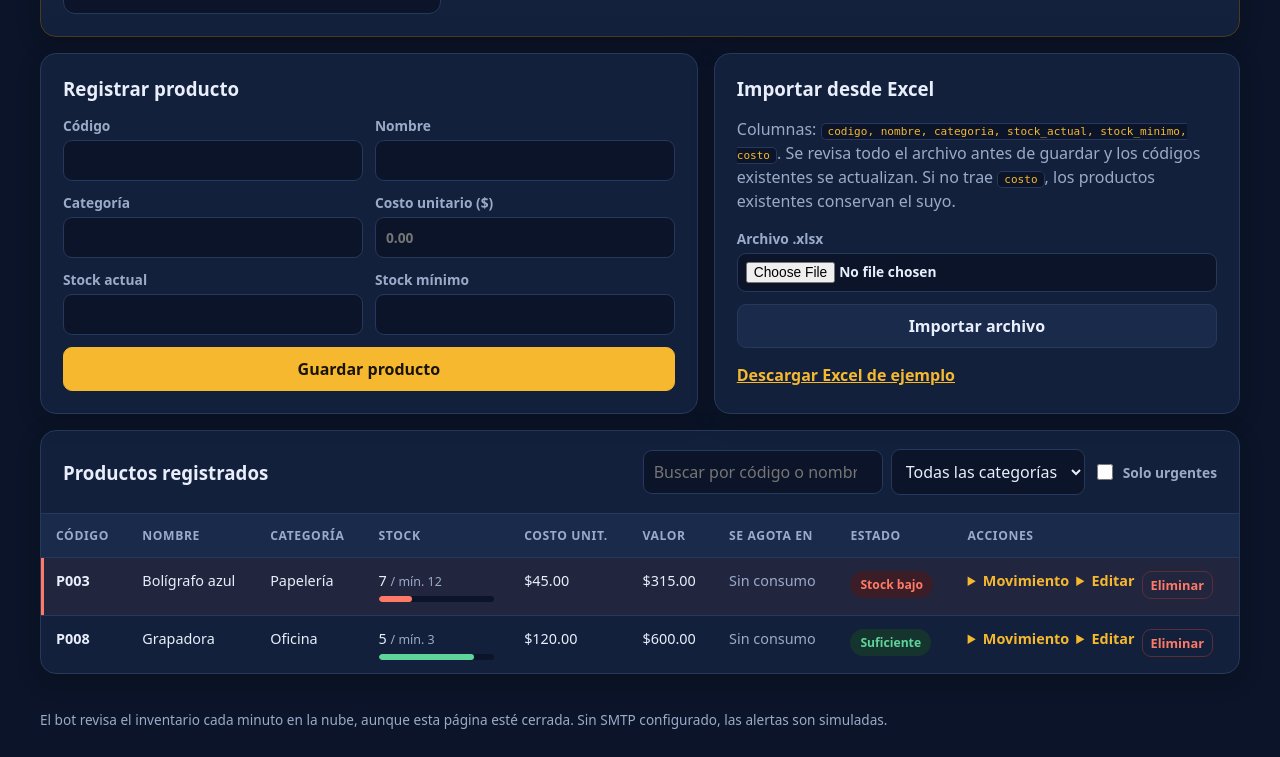
it: Inventario › 'Solo urgentes' y el buscador filtran la tabla
(page scrolled)
expect the text "P003" is shown: met, box [56,571,90,590]
Click the checkbox labelled "Solo urgentes" at (1105, 472), box [1097,464,1113,480]
(page scrolled)
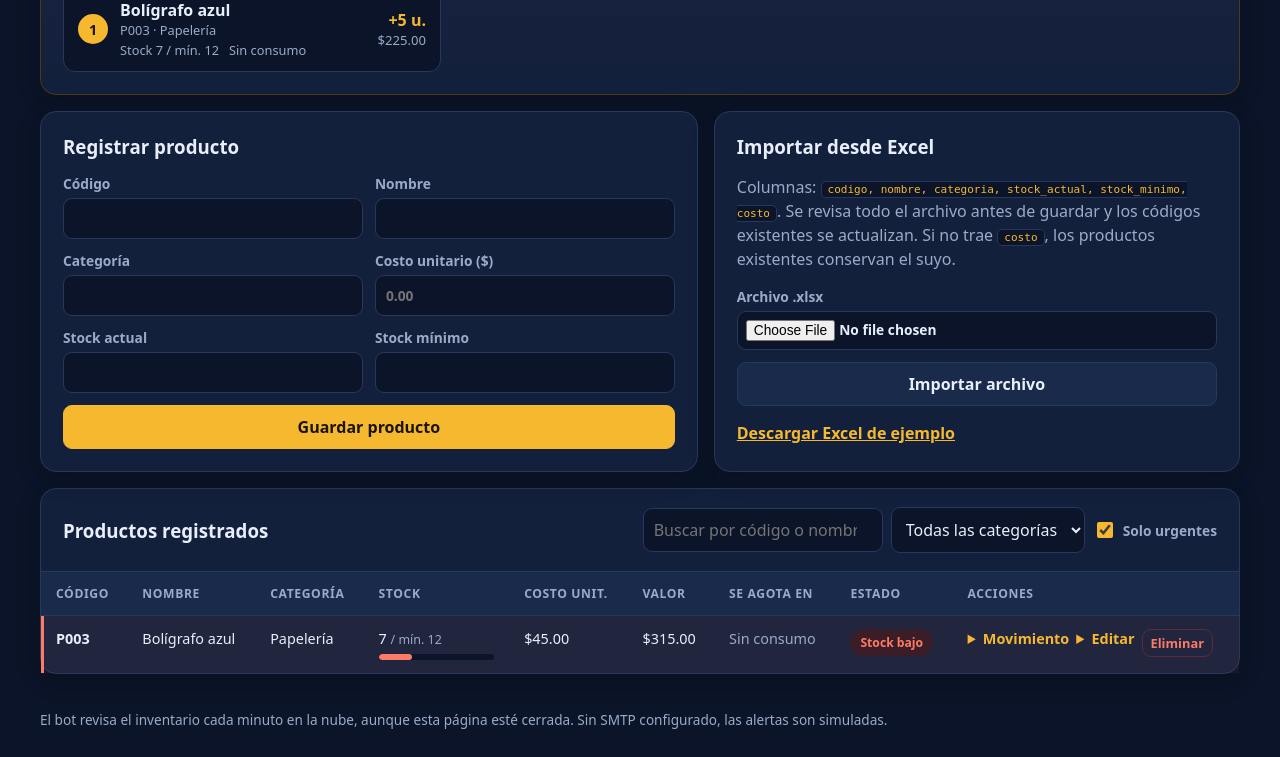
Click the checkbox labelled "Solo urgentes" at (1105, 530), box [1097,522,1113,538]
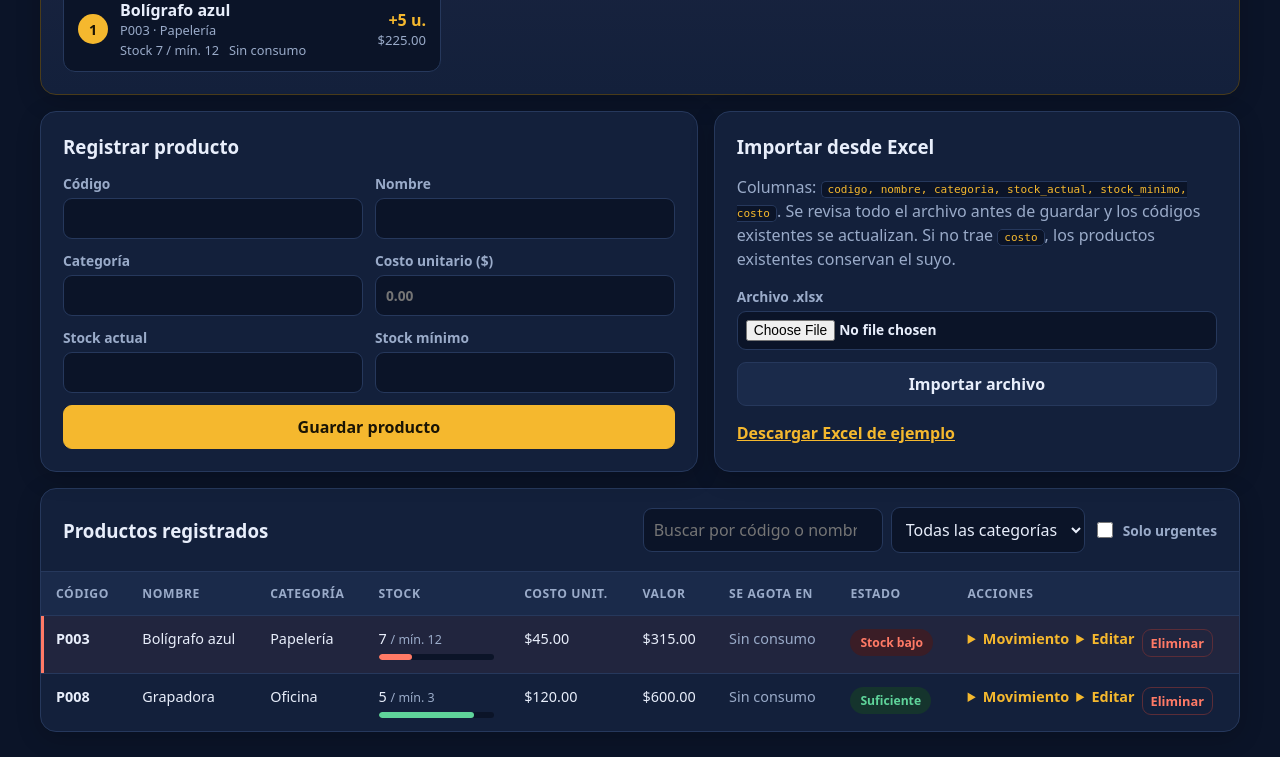
Select "Oficina" in the dropdown named "Filtrar por categoría" at (988, 530), box [891,507,1085,553]
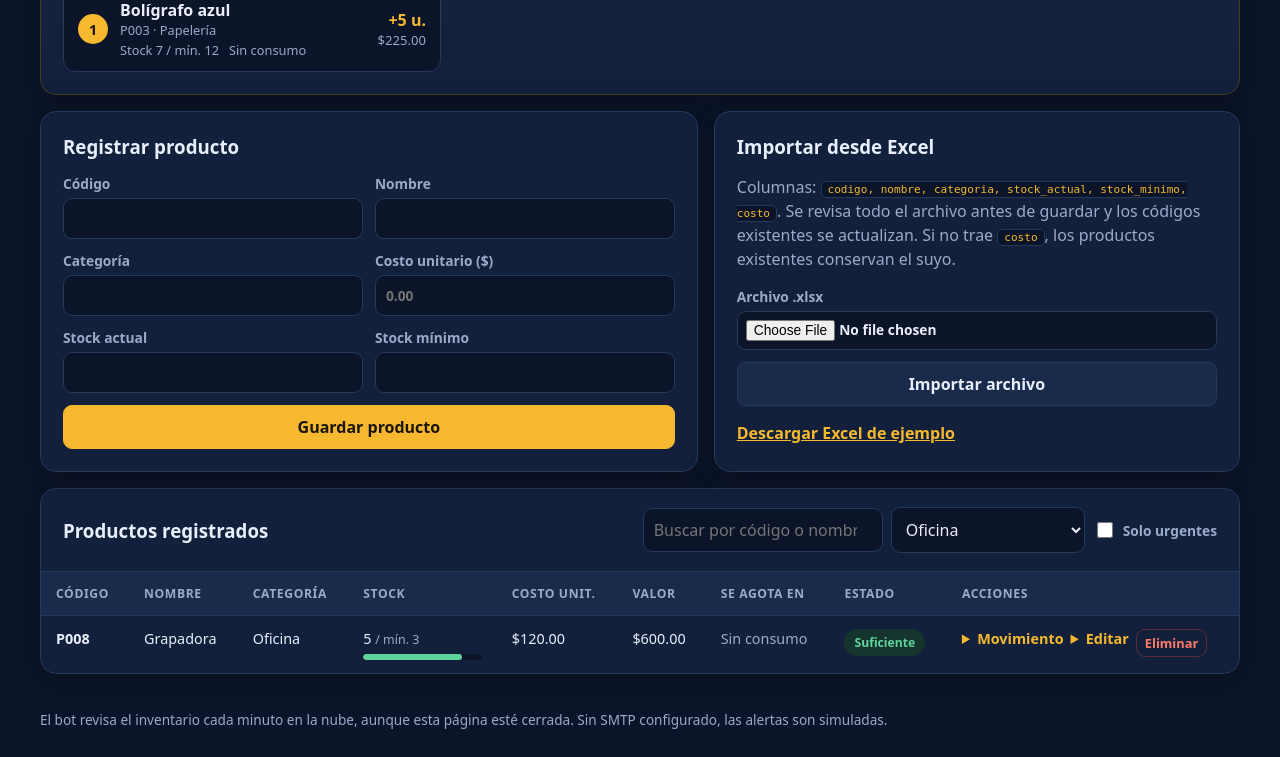
Type "no existe" into the search field named "Buscar producto" at (763, 530), box [643,508,883,552]
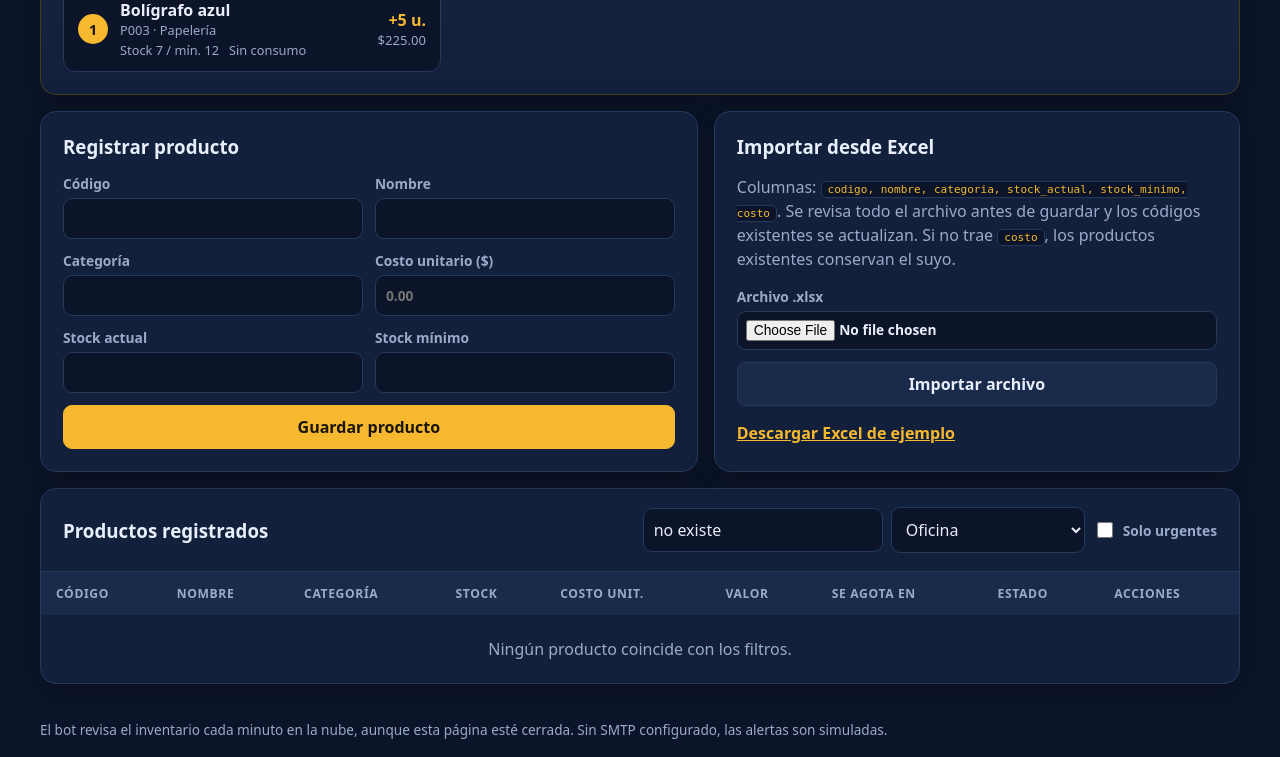
expect the text "Ningún producto coincide con los filtros." is shown: met, box [488,638,792,660]
